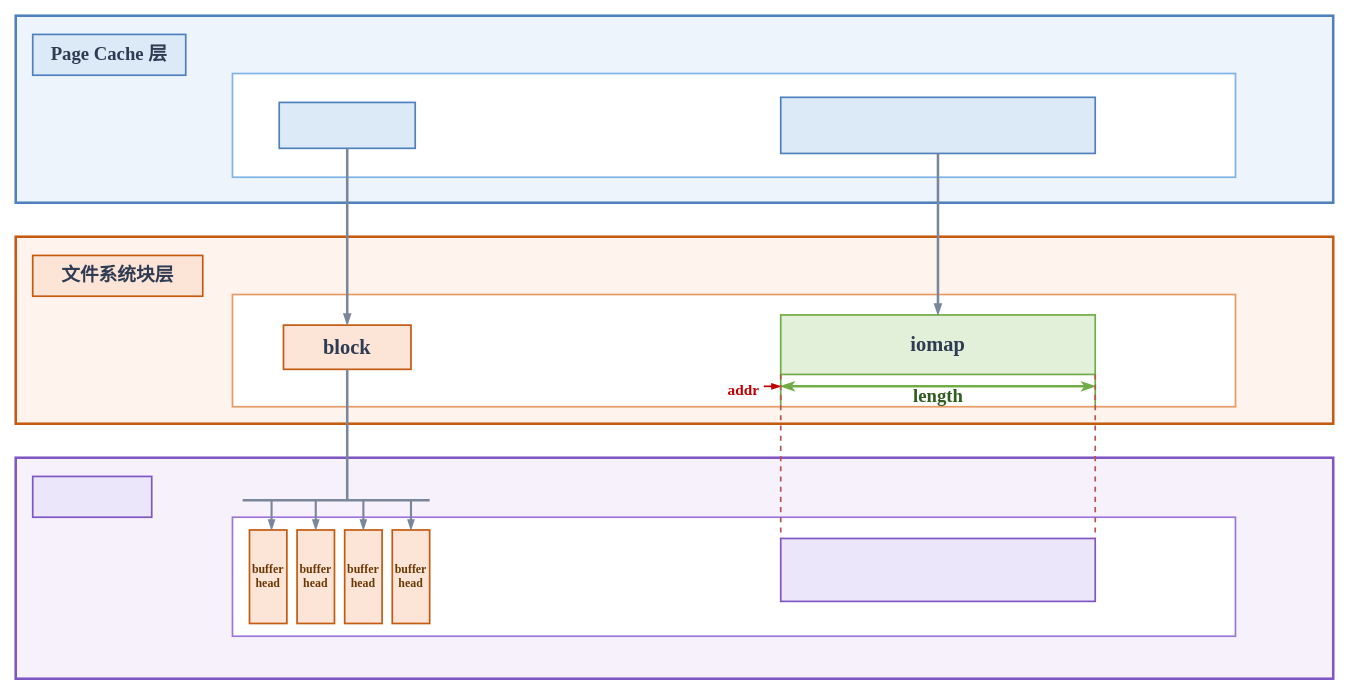
The diagram is 1349 pixels wide and 694 high, and some of its shapes have lost their labels. Here are the shapes that lost their labels. From the top down, the centre of each, then its label:
(347,125): page
(937,125): large folio
(91,496): Block 层
(937,569): bio
